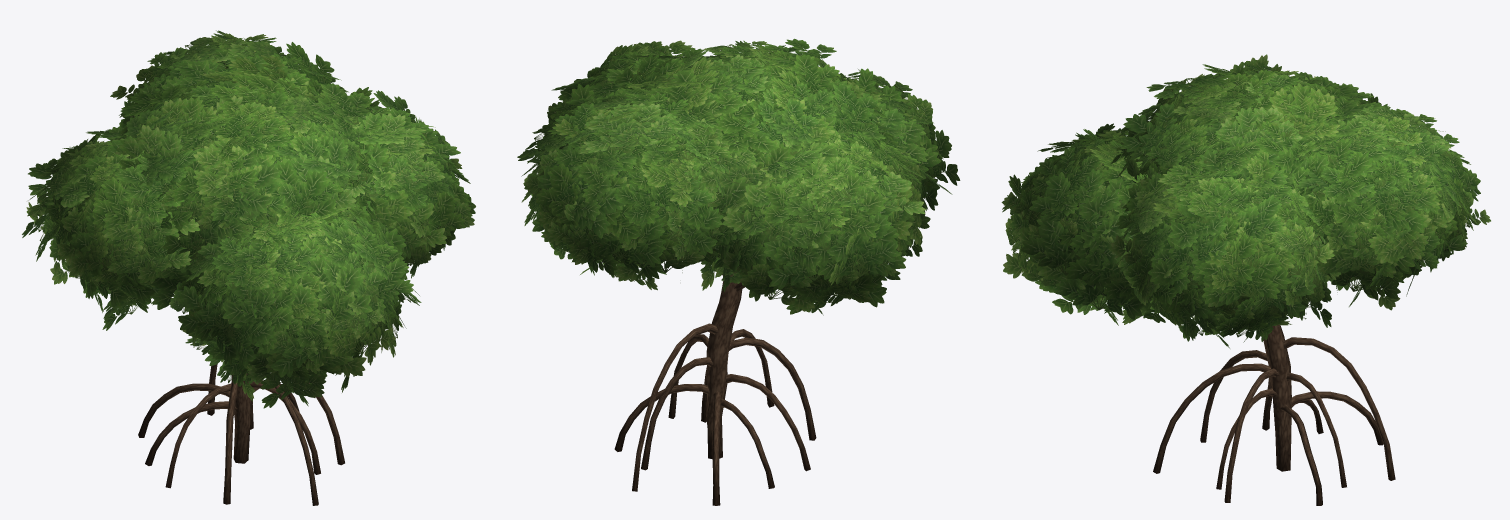
Rendered from mangrove_c_lod1.glb.
The picture shows the model from 3 angles, left to right: view 1: azimuth 30°, elevation 25°; view 2: azimuth 150°, elevation 25°; view 3: azimuth 270°, elevation 25°; orthographic projection. The views are drawn at different scales.
Visible parts, largest first — view 1: leaves, wood; view 2: leaves, wood; view 3: leaves, wood.
Part boxes in pixels (<box>): leaves: <box>22,30,475,408</box>; wood: <box>138,364,344,505</box>; leaves: <box>517,38,960,315</box>; wood: <box>614,274,816,505</box>; leaves: <box>1001,54,1490,348</box>; wood: <box>1153,324,1395,505</box>.
Size of the model in its own units: 11.32 by 10.87 by 12.03.
Materials: 2 (2 with a texture image).
